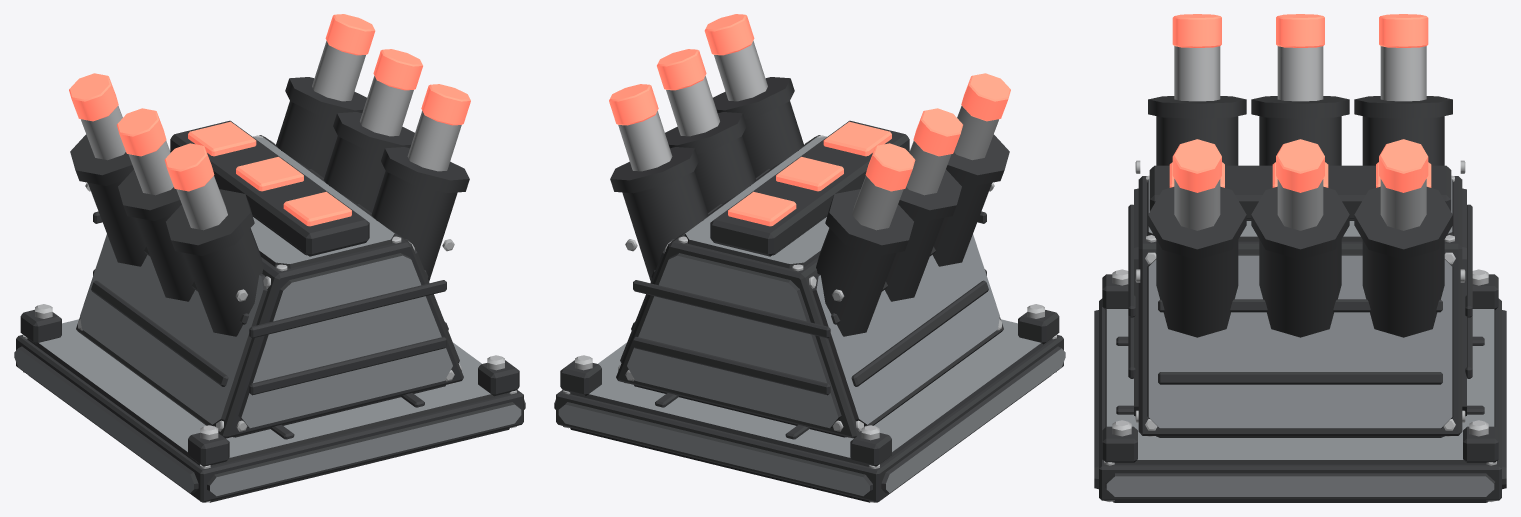
Rendered from R4X_Overdrive.fbx.
3 views of the same model, side by side, from view 1: azimuth 30°, elevation 25°; view 2: azimuth 150°, elevation 25°; view 3: azimuth 270°, elevation 25° (orthographic). The views are drawn at different scales.
Parts seen in each view (by area): view 1: R4X_Overdrive_Body; view 2: R4X_Overdrive_Body; view 3: R4X_Overdrive_Body.
Boxes of the visible parts, x1=… form: R4X_Overdrive_Body: x1=14, y1=14, x2=525, y2=502; R4X_Overdrive_Body: x1=554, y1=14, x2=1065, y2=502; R4X_Overdrive_Body: x1=1094, y1=14, x2=1506, y2=502.
Size of the model in its own units: 0.52 by 0.4765 by 0.52.
